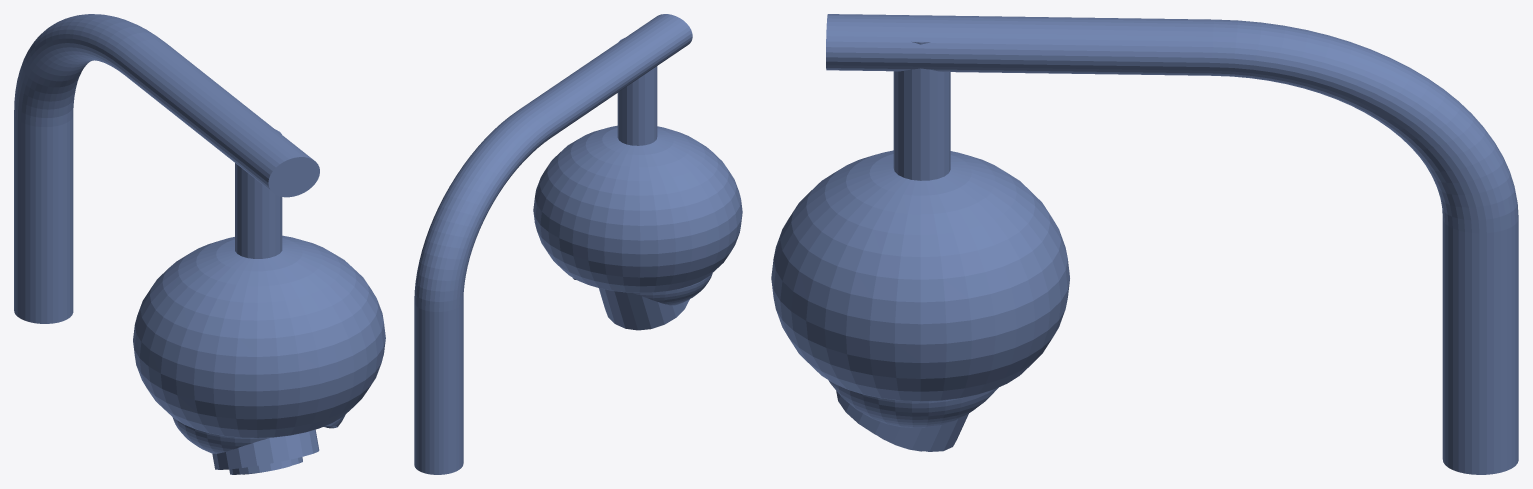
File: Planned - outdoor dome purple.glb
3 renders of one model, left to right at view 1: azimuth 30°, elevation 25°; view 2: azimuth 150°, elevation 25°; view 3: azimuth 270°, elevation 25°, orthographic. The views are drawn at different scales.
Visible parts, largest first — view 1: Mesh_Mesh_head_geo.001_lambert2SG.001; view 2: Mesh_Mesh_head_geo.001_lambert2SG.001; view 3: Mesh_Mesh_head_geo.001_lambert2SG.001.
Boxes of the visible parts, bbox=[...] form: Mesh_Mesh_head_geo.001_lambert2SG.001: bbox=[14, 14, 385, 474]; Mesh_Mesh_head_geo.001_lambert2SG.001: bbox=[414, 14, 742, 474]; Mesh_Mesh_head_geo.001_lambert2SG.001: bbox=[771, 14, 1518, 474].
Bounding box in the file's own units: 61 × 92.49 × 145.
